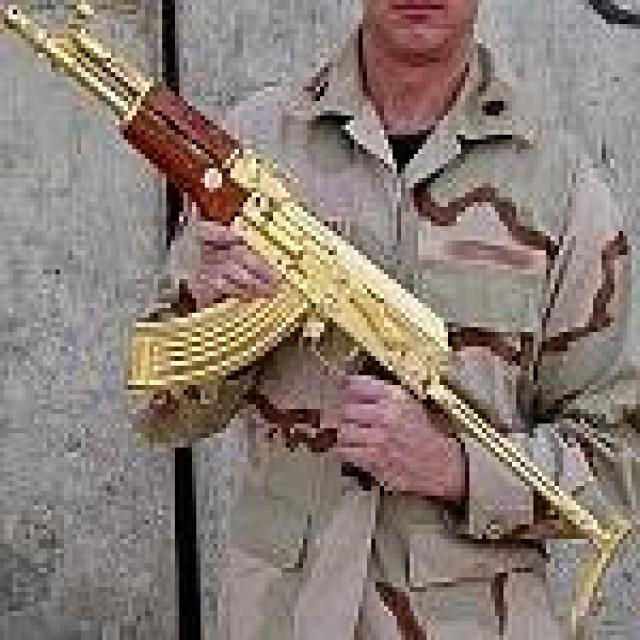Gun: (39, 107, 625, 585)
